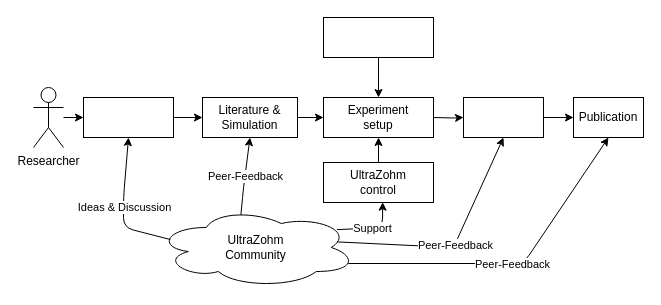
Some shapes in this 661 by 305 pixel diagram are drawn without their labels. The shapes that lost their labels are listed below. From the top down, each one's centre as x and y in pixels, then its label:
point (378, 37): Power electronics
point (128, 117): Research hypothesis
point (503, 117): Measurement
